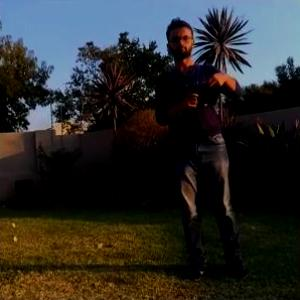follow: (152, 17, 255, 289)
